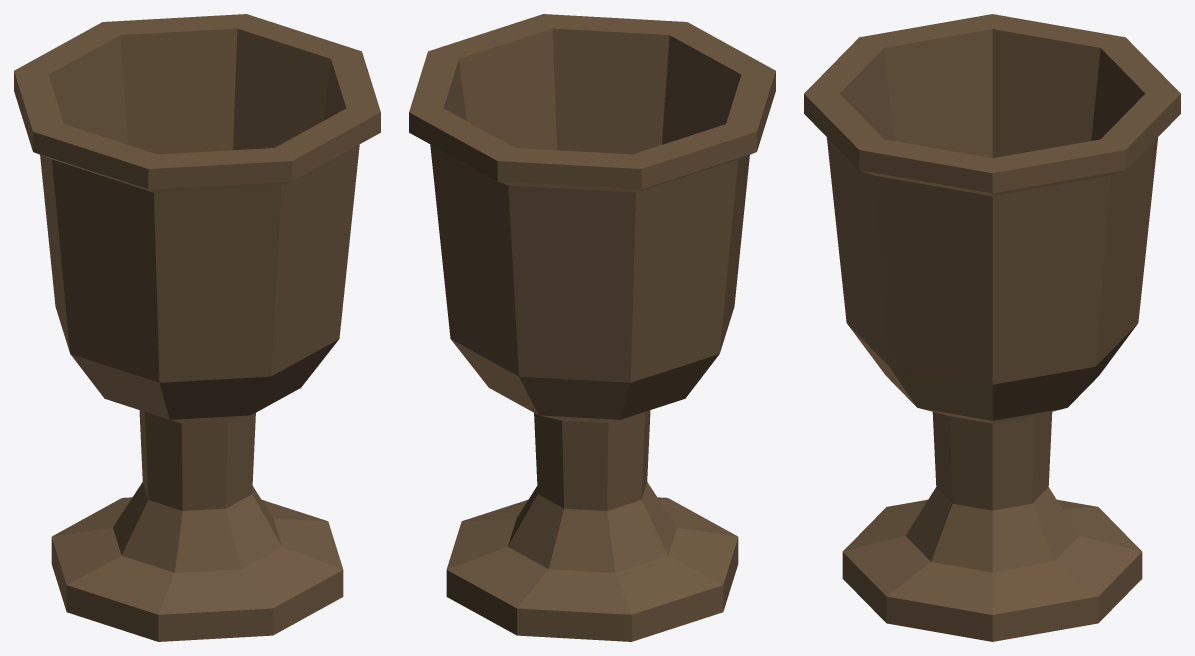
The model's file is SM_Item_Cup_01.glb.
The picture shows the model from 3 angles, left to right: view 1: azimuth 30°, elevation 25°; view 2: azimuth 150°, elevation 25°; view 3: azimuth 270°, elevation 25°; orthographic projection.
Visible parts, largest first — view 1: SM_Item_Cup_01; view 2: SM_Item_Cup_01; view 3: SM_Item_Cup_01.
Part boxes in pixels (<box>): SM_Item_Cup_01: <box>14,14,380,641</box>; SM_Item_Cup_01: <box>409,14,775,641</box>; SM_Item_Cup_01: <box>804,14,1180,641</box>.
Size of the model in its own units: 0.00212 by 0.00301 by 0.00212.
